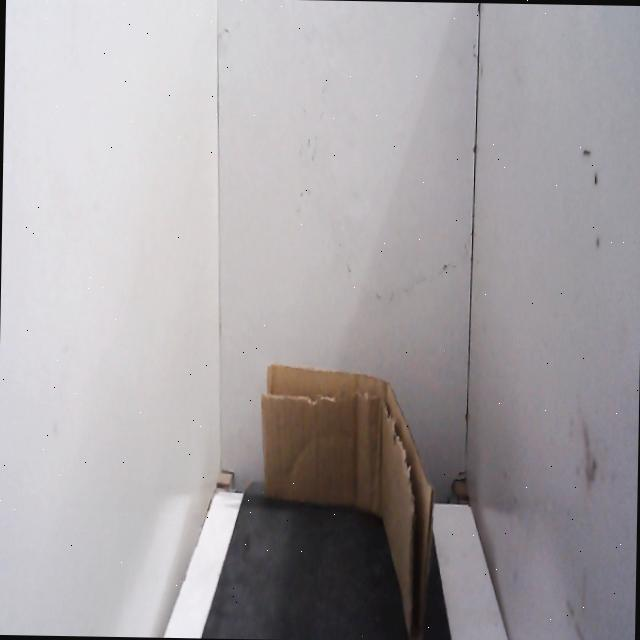papel: (252, 356, 441, 640)
